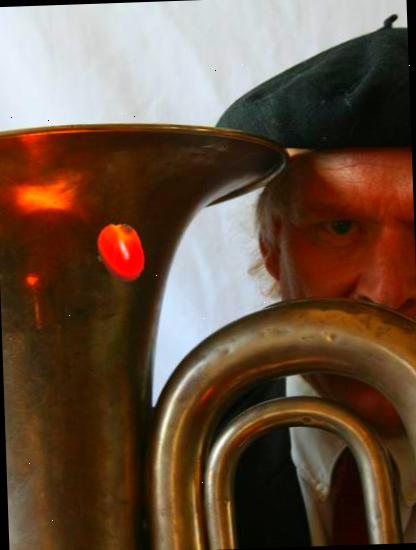Kaki: (88, 221, 153, 286)
